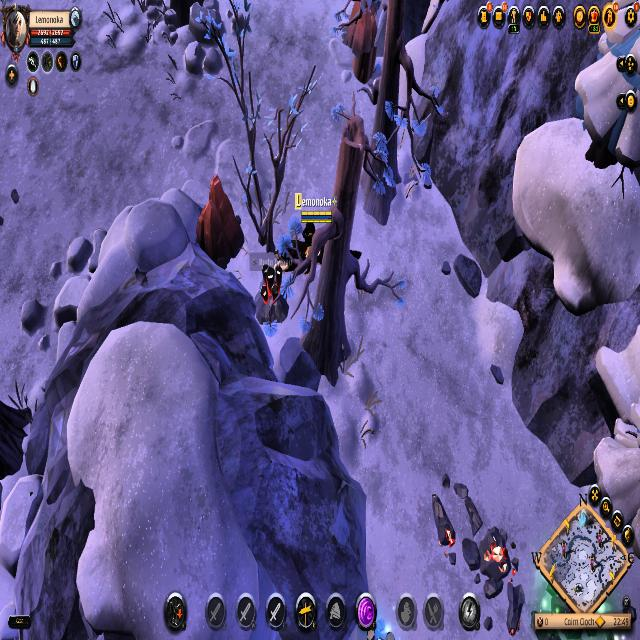rock tier 5: (194, 170, 246, 270)
